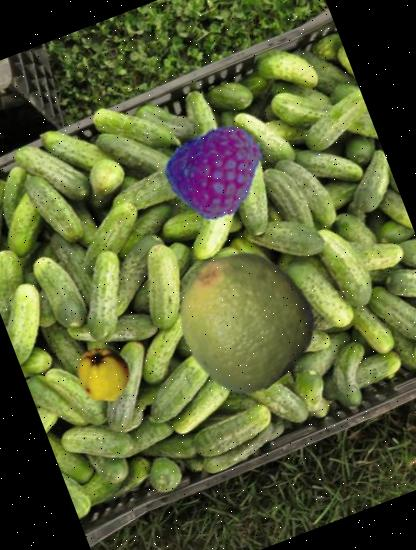Limes: (154, 228, 335, 410)
Quince: (66, 338, 140, 412)
Raspberry: (154, 109, 282, 237)
